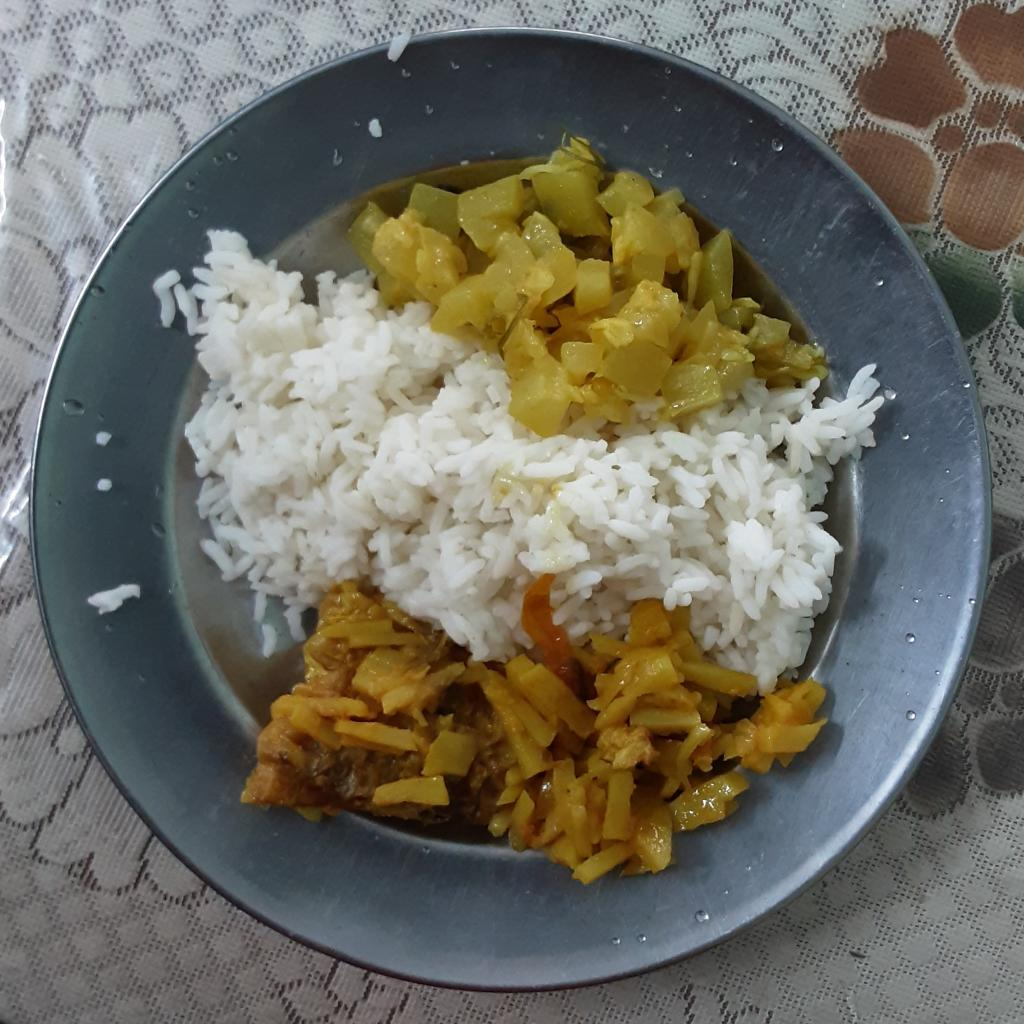fish: (237, 584, 497, 825)
lau: (348, 130, 824, 439)
potato: (478, 598, 838, 884), (286, 619, 484, 812)
rice: (155, 228, 883, 703), (85, 585, 137, 614)
tomato: (513, 576, 576, 685)
